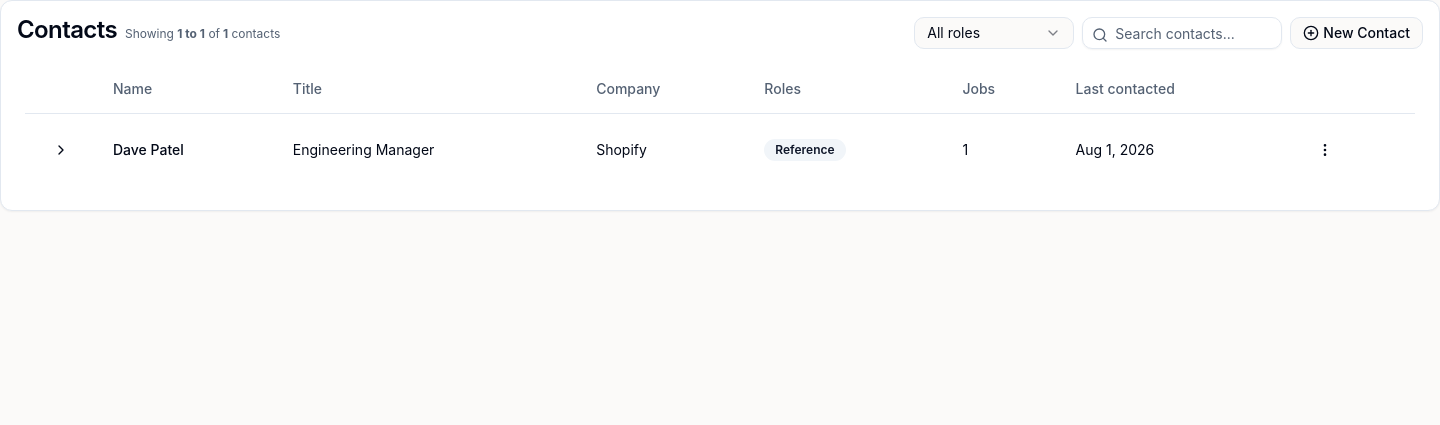
Test: ContactsContainer › keeps the rest of the record in the expanded row until it is opened
The image size is (1440, 425).
Expected: the text "Dave Patel" is shown, [97,113,277,186]
Expected: the text "dave@shopify.com" is not shown
Click the button named "expand dave patel". click: (61, 150)
box: [41,130,81,170]
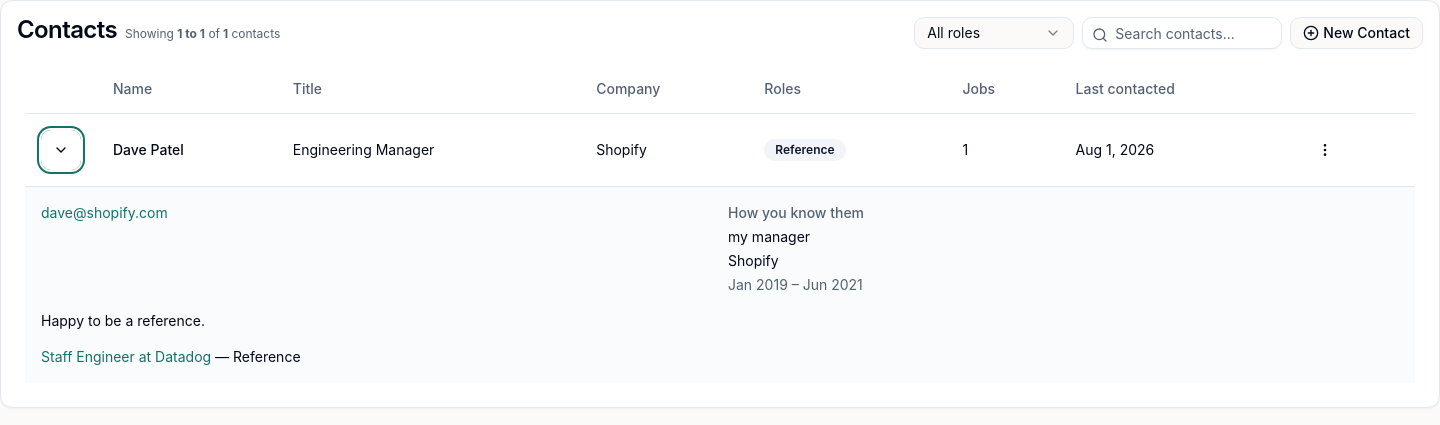
Expected: the link "dave@shopify.com" is shown, [41,204,168,220]
Expected: the text "Happy to be a reference." is shown, [41,312,205,328]
Expected: the link "Staff Engineer at Datadog" is shown, [41,348,211,364]
